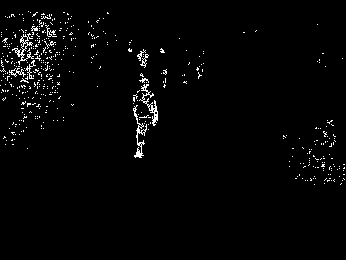person: (130, 77, 159, 160)
